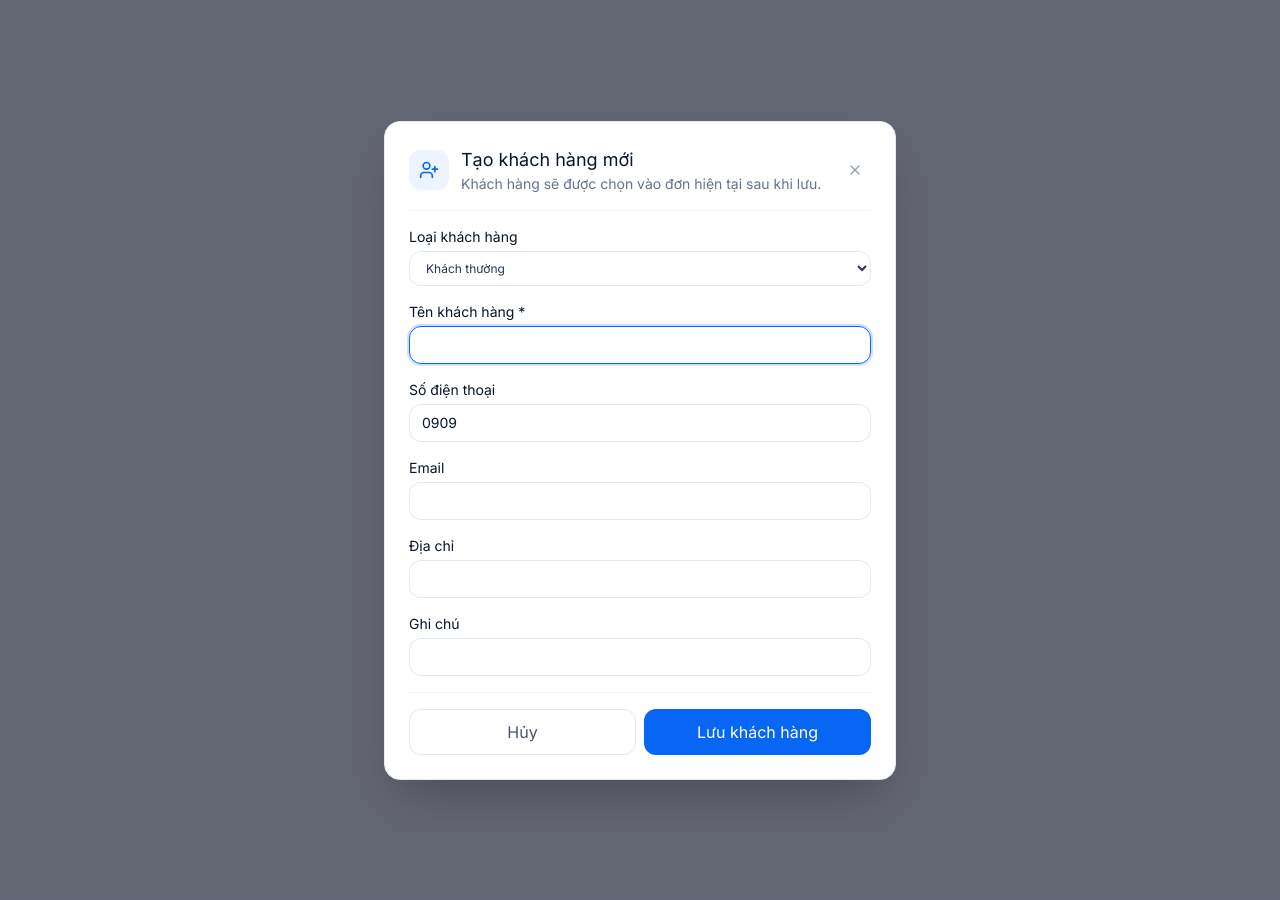
Test: CreateCustomerDialog › keeps entered values and shows the API error when creation fails
The image size is (1280, 900).
Type "Nguyễn Văn B" into the field labelled "Tên khách hàng".
click(640, 344); type("Nguyễn Văn B")  # box x1=409 y1=326 x2=871 y2=364
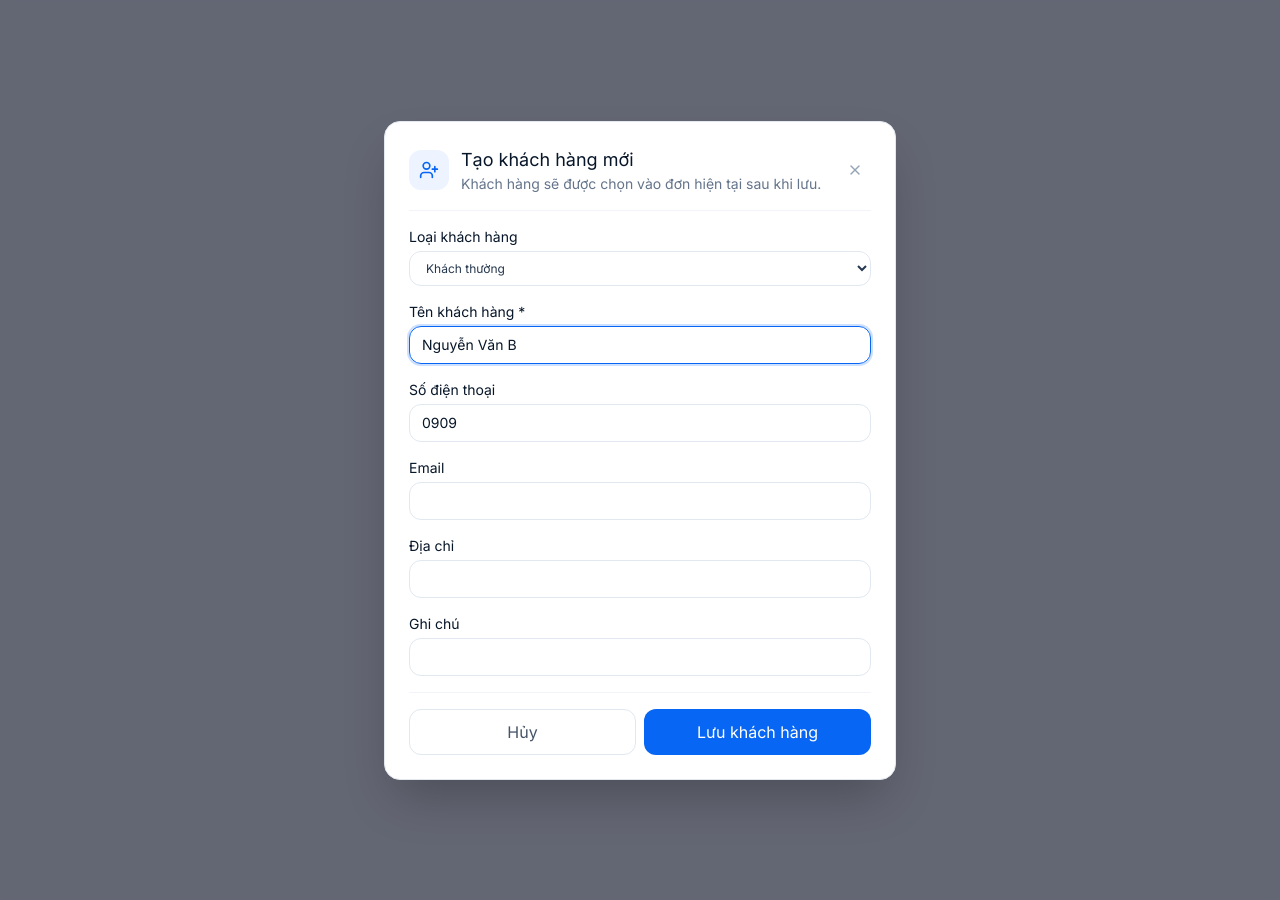
Click the button "Lưu khách hàng".
click(758, 732)  # box x1=644 y1=708 x2=871 y2=754
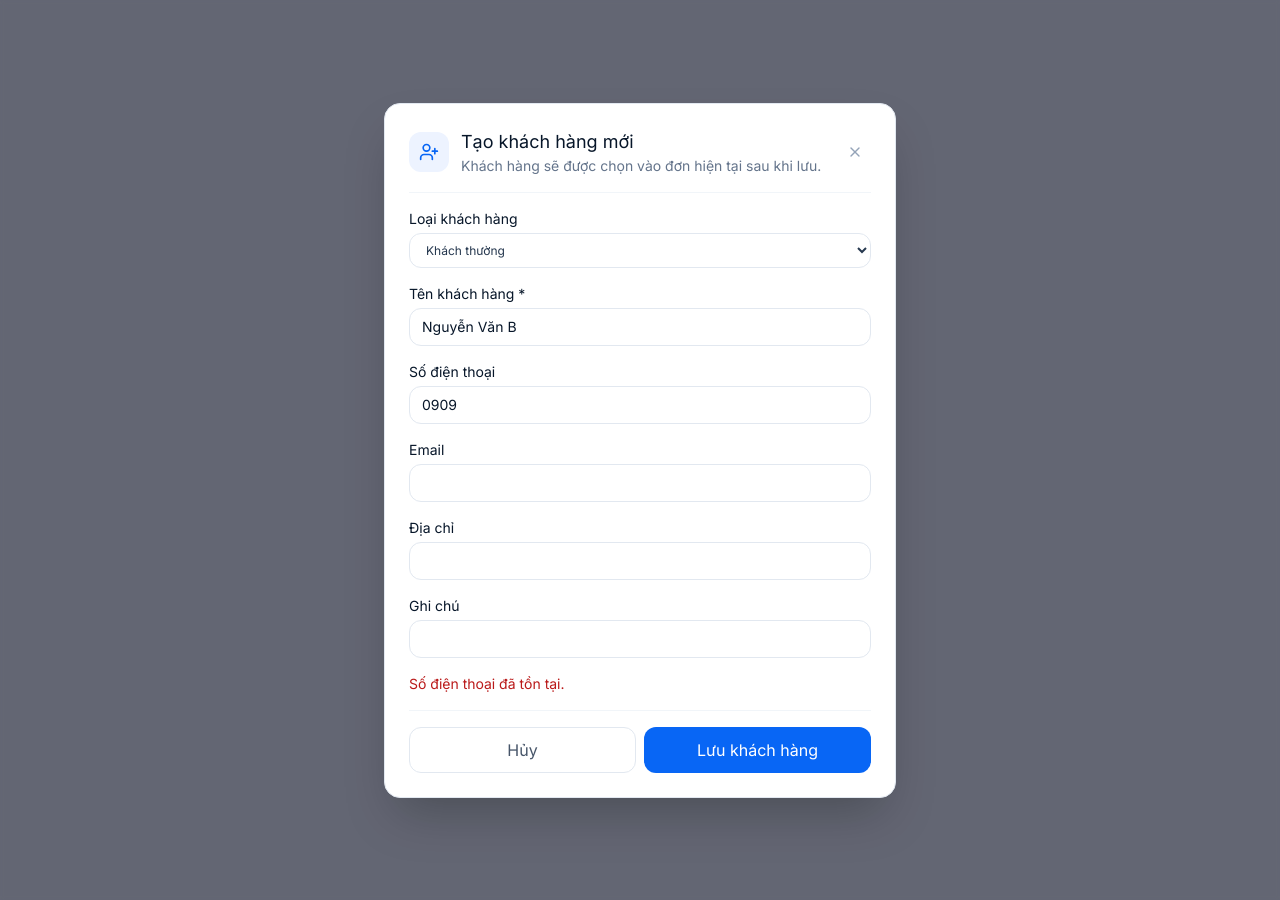
Check: the message reads "Số điện thoại đã tồn tại.", box x1=409 y1=674 x2=564 y2=692
